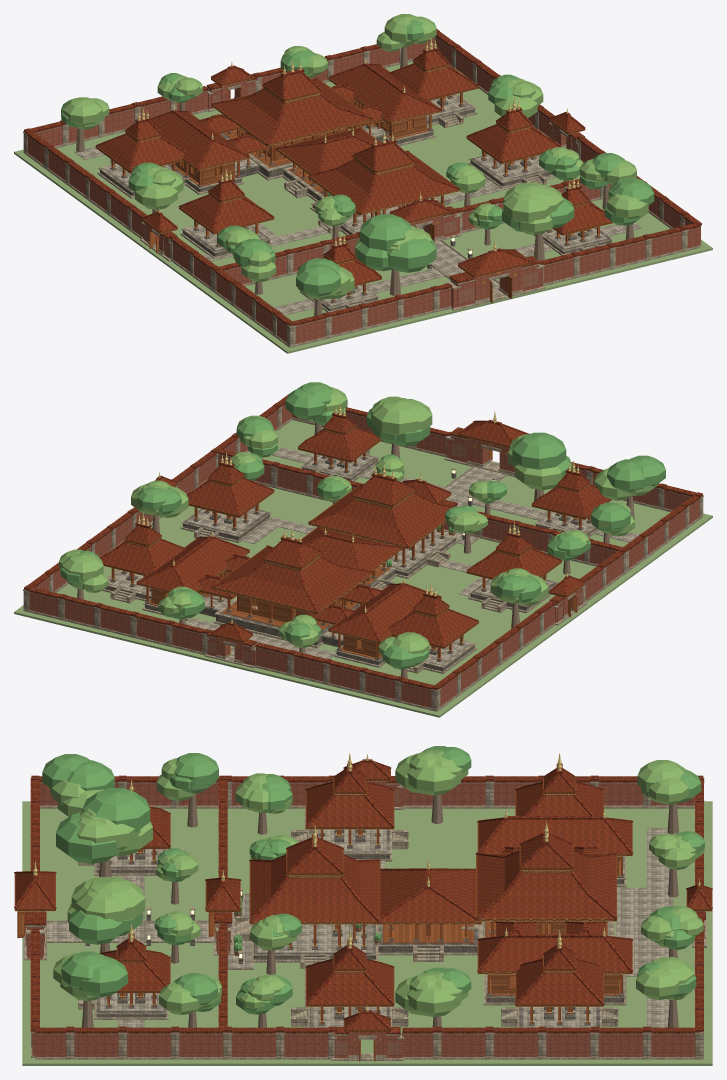
The model's file is world.glb.
The picture shows the model from 3 angles, top to bottom: view 1: azimuth 30°, elevation 25°; view 2: azimuth 150°, elevation 25°; view 3: azimuth 270°, elevation 25°; orthographic projection. The views are drawn at different scales.
Parts seen in each view (by area): view 1: Keraton_Jawa; view 2: Keraton_Jawa; view 3: Keraton_Jawa.
Part boxes in pixels (x1,y1,x2,y2): Keraton_Jawa: [14, 14, 712, 353]; Keraton_Jawa: [14, 382, 712, 717]; Keraton_Jawa: [14, 746, 712, 1065].
Bounding box in the file's own units: 71.09 × 14.32 × 79.99.
19 materials, 10 textured.
